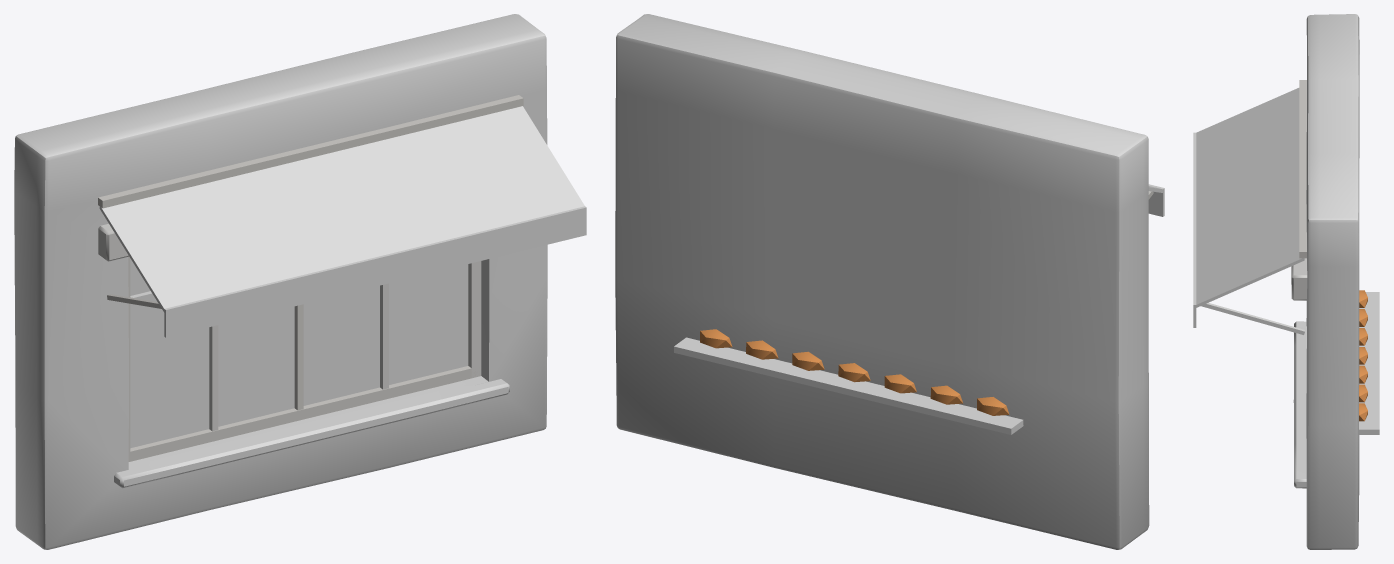
The model's file is Kit_RealBakery_ShopW.fbx.
The picture shows the model from 3 angles, left to right: view 1: azimuth 30°, elevation 25°; view 2: azimuth 150°, elevation 25°; view 3: azimuth 270°, elevation 25°; orthographic projection. The views are drawn at different scales.
Visible parts, largest first — view 1: Kit_RealBakery_ShopW_LOD0; view 2: Kit_RealBakery_ShopW_LOD0; view 3: Kit_RealBakery_ShopW_LOD0.
Part boxes in pixels (<box>): Kit_RealBakery_ShopW_LOD0: <box>14,14,586,549</box>; Kit_RealBakery_ShopW_LOD0: <box>615,14,1164,549</box>; Kit_RealBakery_ShopW_LOD0: <box>1193,14,1379,549</box>.
Size of what is drawn, in the model's own units: 4.21 by 3.16 by 1.6.
